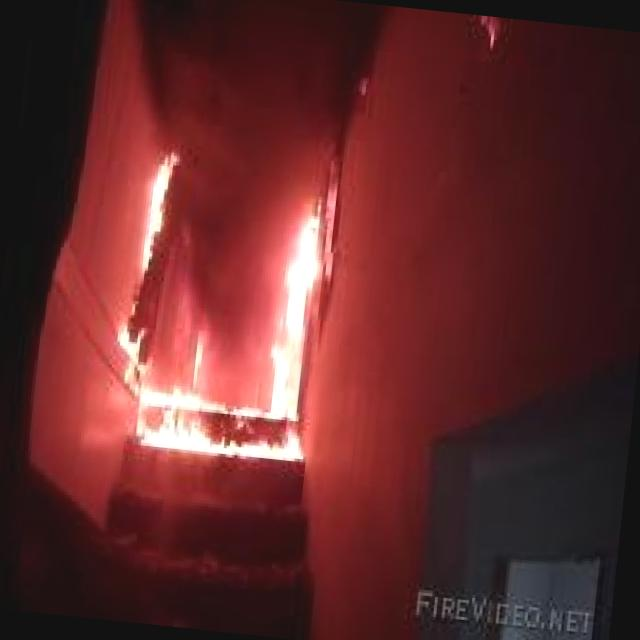fire: (114, 136, 358, 463)
